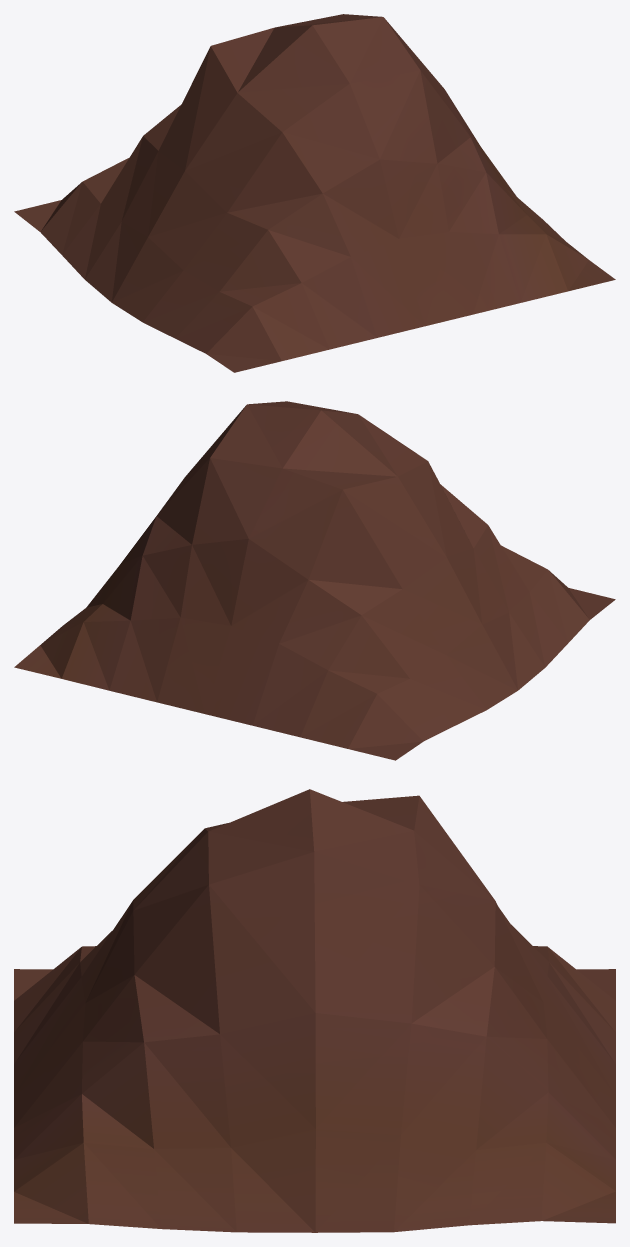
Rendered from mod_groundLayering_1x1Bigger.fbx.
The picture shows the model from 3 angles, top to bottom: view 1: azimuth 30°, elevation 25°; view 2: azimuth 150°, elevation 25°; view 3: azimuth 270°, elevation 25°; orthographic projection. The views are drawn at different scales.
Parts seen in each view (by area): view 1: mod_groundLayering_1x1; view 2: mod_groundLayering_1x1; view 3: mod_groundLayering_1x1.
Part boxes in pixels (bbox=[...]): mod_groundLayering_1x1: bbox=[14, 14, 615, 372]; mod_groundLayering_1x1: bbox=[14, 401, 615, 760]; mod_groundLayering_1x1: bbox=[14, 789, 615, 1232].
Bounding box in the file's own units: 106 × 57.67 × 100.
